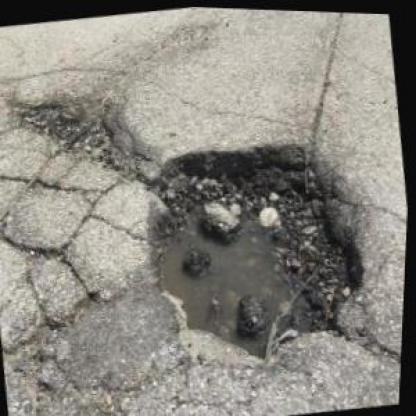pothole: (127, 120, 387, 376), (11, 83, 146, 192)
